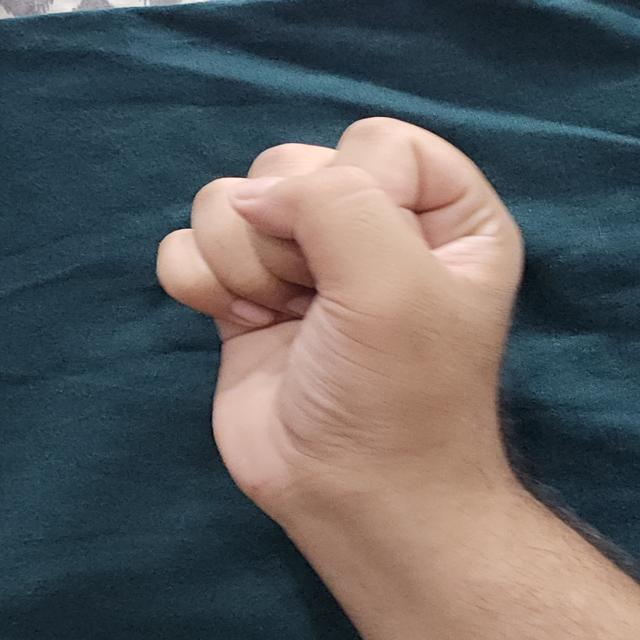ث: (149, 97, 537, 614)
